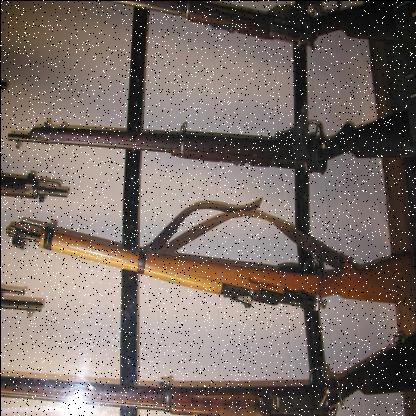rifle: (8, 189, 412, 324), (1, 328, 413, 416), (1, 113, 416, 167), (82, 1, 416, 35)
